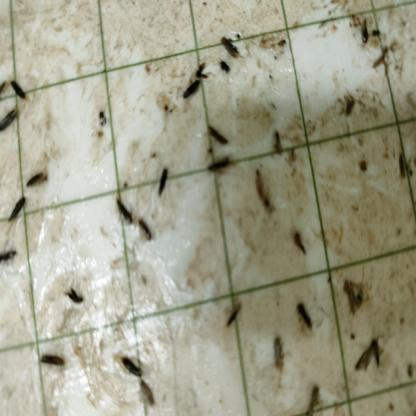prays_oleae: (356, 332, 385, 377), (289, 223, 313, 263), (268, 334, 289, 373), (4, 197, 30, 228), (0, 100, 22, 135), (295, 292, 312, 336), (113, 194, 136, 226), (204, 122, 230, 150), (8, 76, 31, 105), (119, 351, 144, 377), (217, 34, 241, 61), (62, 284, 84, 312), (38, 348, 67, 369), (179, 81, 203, 106), (306, 381, 323, 414), (208, 153, 232, 175), (0, 238, 14, 274), (270, 128, 286, 158), (140, 378, 157, 406), (224, 303, 243, 328), (155, 166, 170, 197), (136, 217, 154, 242), (358, 16, 372, 46), (397, 148, 408, 186), (25, 169, 49, 185), (194, 60, 209, 80), (0, 74, 8, 105)
